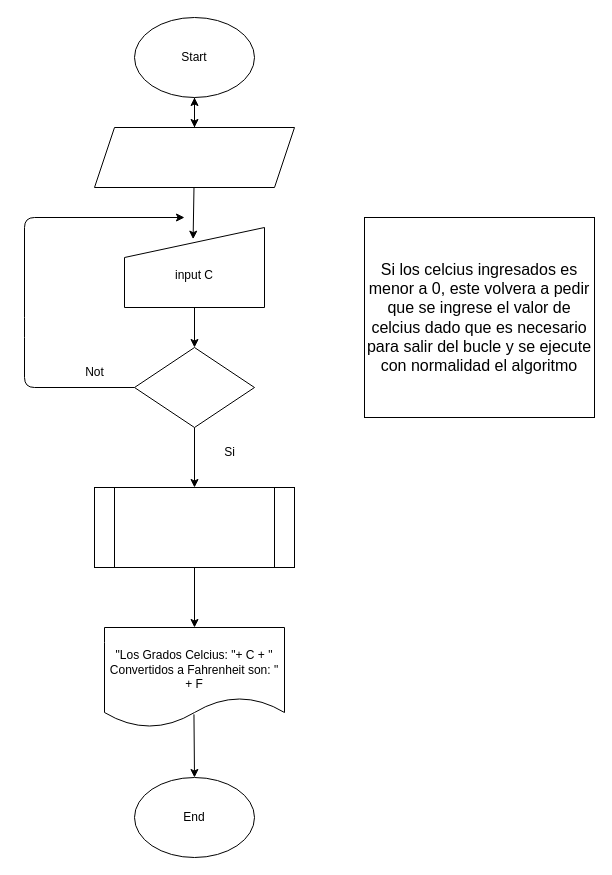
Image size: 612x875. Some labels were removed from this diagram. The shapes that lost their labels are listed below. From the top down, each one's box as (x1, y1, x2, y2) in pixels, then its label:
(94, 126, 294, 188): double C, F
(134, 346, 254, 428): C > 0
(94, 486, 294, 568): F = (9 * C) / 5 + 32
